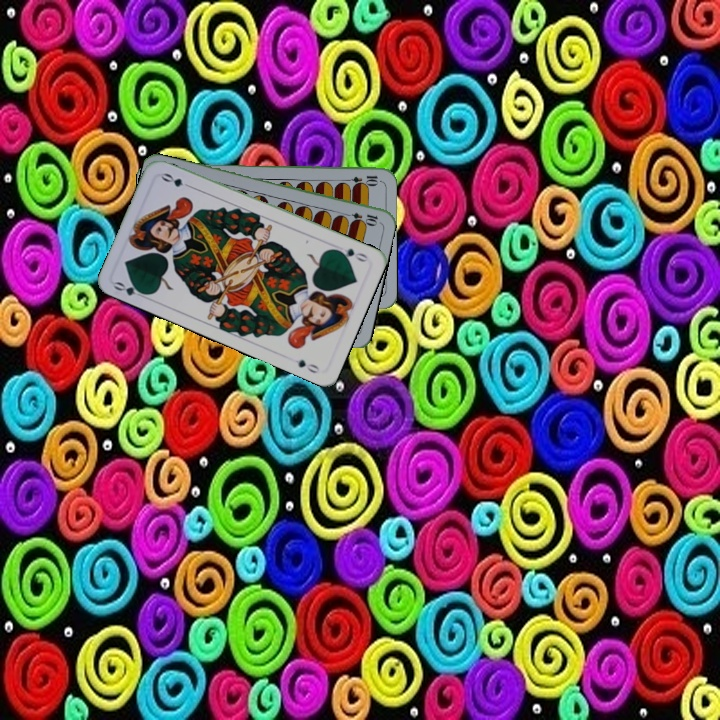E10: (340, 208, 380, 226), (340, 171, 380, 185)
GO: (110, 278, 151, 302), (331, 244, 370, 265)
